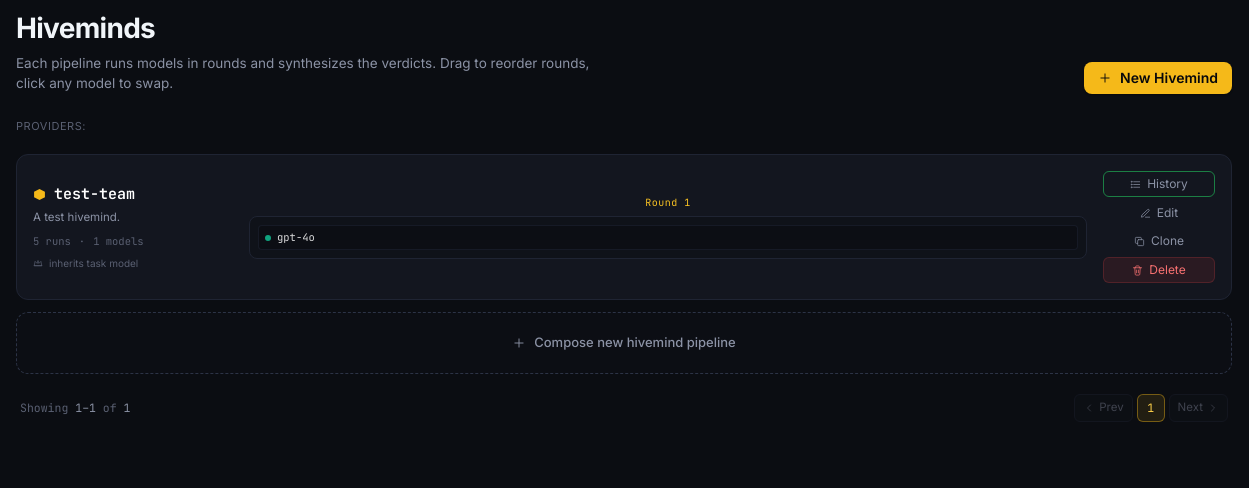
HivemindsScreen › shows an error banner when cloning fails
Expected: the heading "test-team" is shown, [54,184,135,206]
Click the button "Clone". click: point(1159, 241)
box: [1103,229,1215,253]
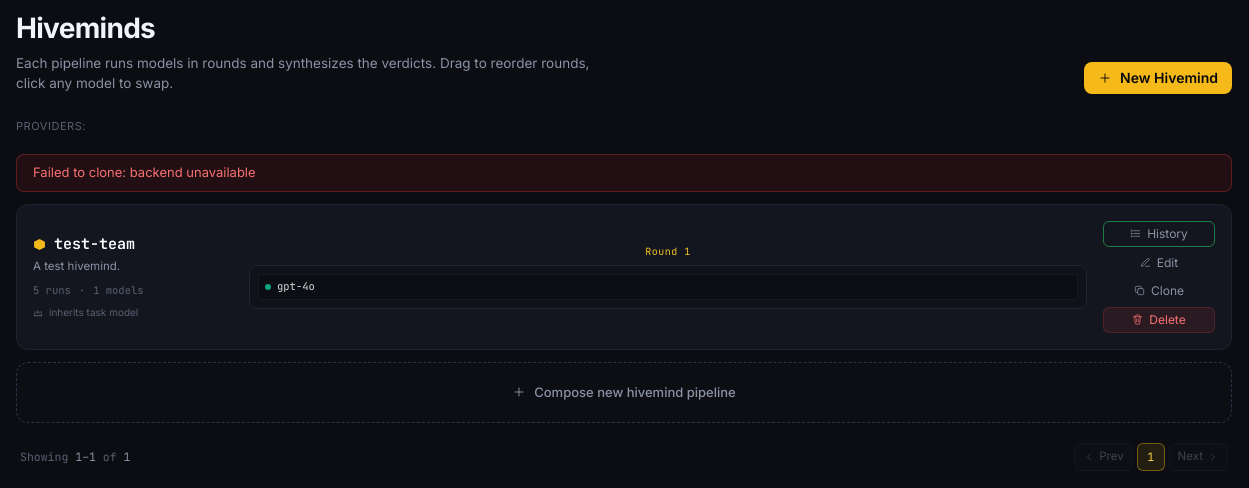
Expected: the text "Failed to clone: backend unavailable" is shown, [16,154,1232,192]
